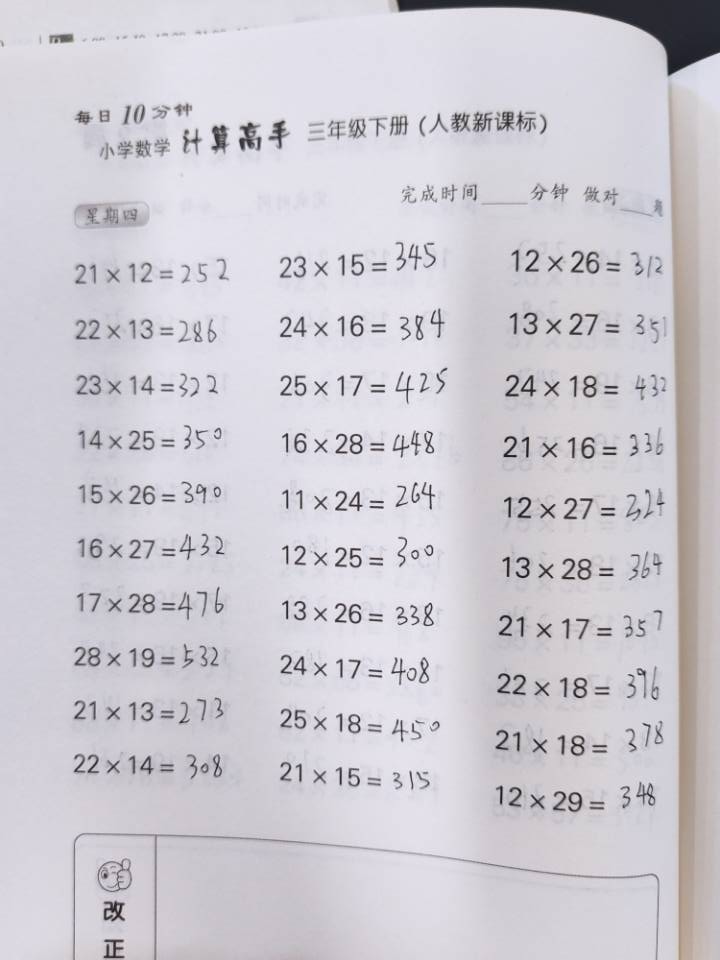equation: (169, 361, 215, 615), (582, 72, 625, 337), (268, 347, 312, 601), (222, 339, 262, 612), (493, 64, 533, 323), (183, 627, 223, 881), (536, 59, 572, 333), (358, 60, 397, 309), (439, 360, 478, 605), (225, 53, 262, 311), (398, 360, 437, 601), (450, 63, 485, 323), (354, 359, 392, 597), (314, 360, 352, 597), (229, 653, 268, 883), (511, 641, 548, 883), (487, 373, 524, 613), (272, 61, 307, 307), (430, 640, 466, 879), (178, 65, 211, 316), (475, 636, 508, 880), (410, 64, 442, 313), (320, 65, 352, 308), (557, 655, 591, 880), (395, 639, 427, 877), (569, 375, 601, 613), (315, 647, 347, 865), (356, 649, 387, 869), (529, 364, 556, 609), (274, 660, 304, 873)
